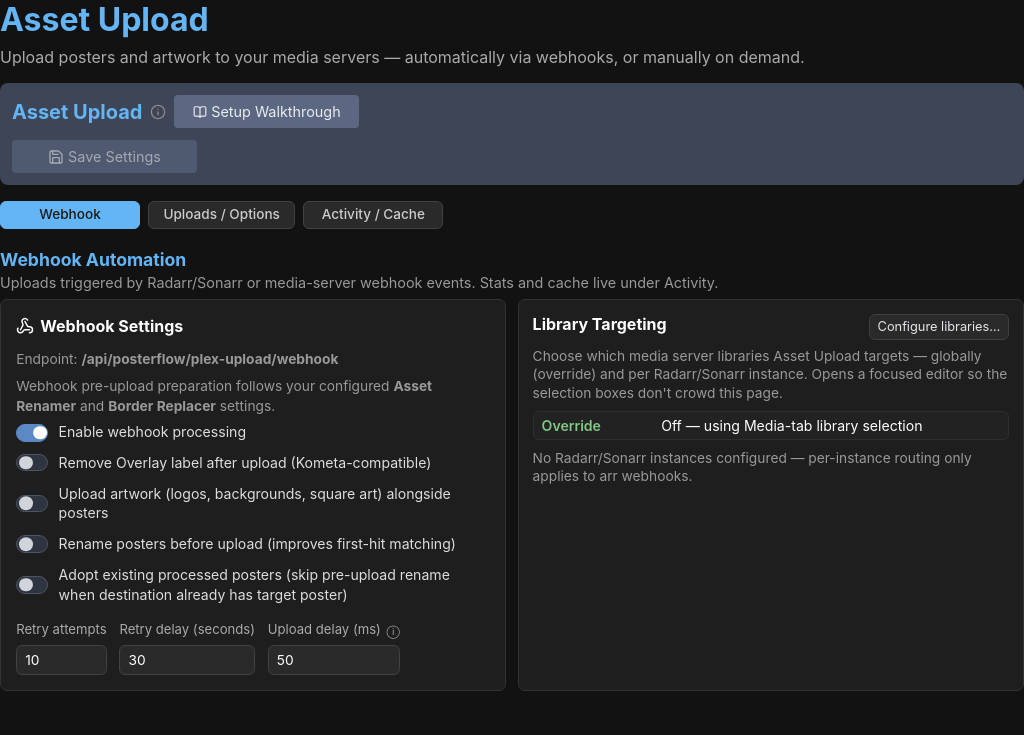
Scenario: PlexUpload › shows the webhook tab by default and switches to the uploads tab
The image size is (1024, 735).
Check: the heading "Webhook Settings" is shown, box x1=40 y1=316 x2=183 y2=336
Check: the text "Upload Options" is not shown
Click the button "Uploads / Options": {"x": 222, "y": 215} x1=148 y1=201 x2=295 y2=229
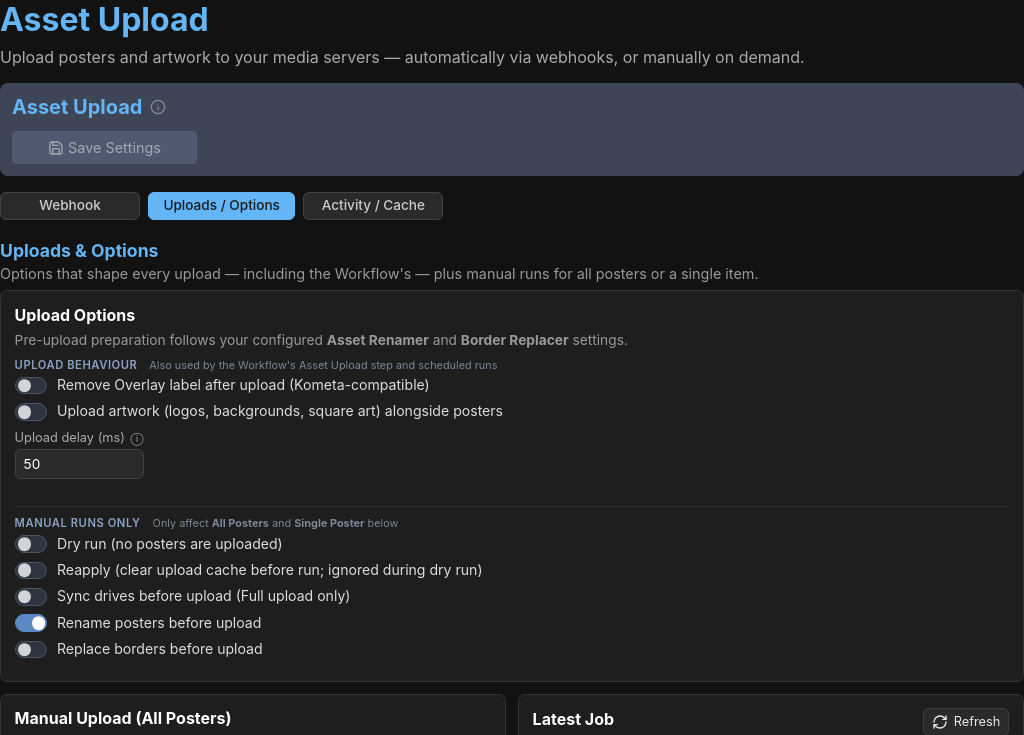
Check: the heading "Upload Options" is shown, box x1=15 y1=305 x2=135 y2=325
Check: the heading "Uploads & Options" is shown, box x1=0 y1=240 x2=158 y2=261
